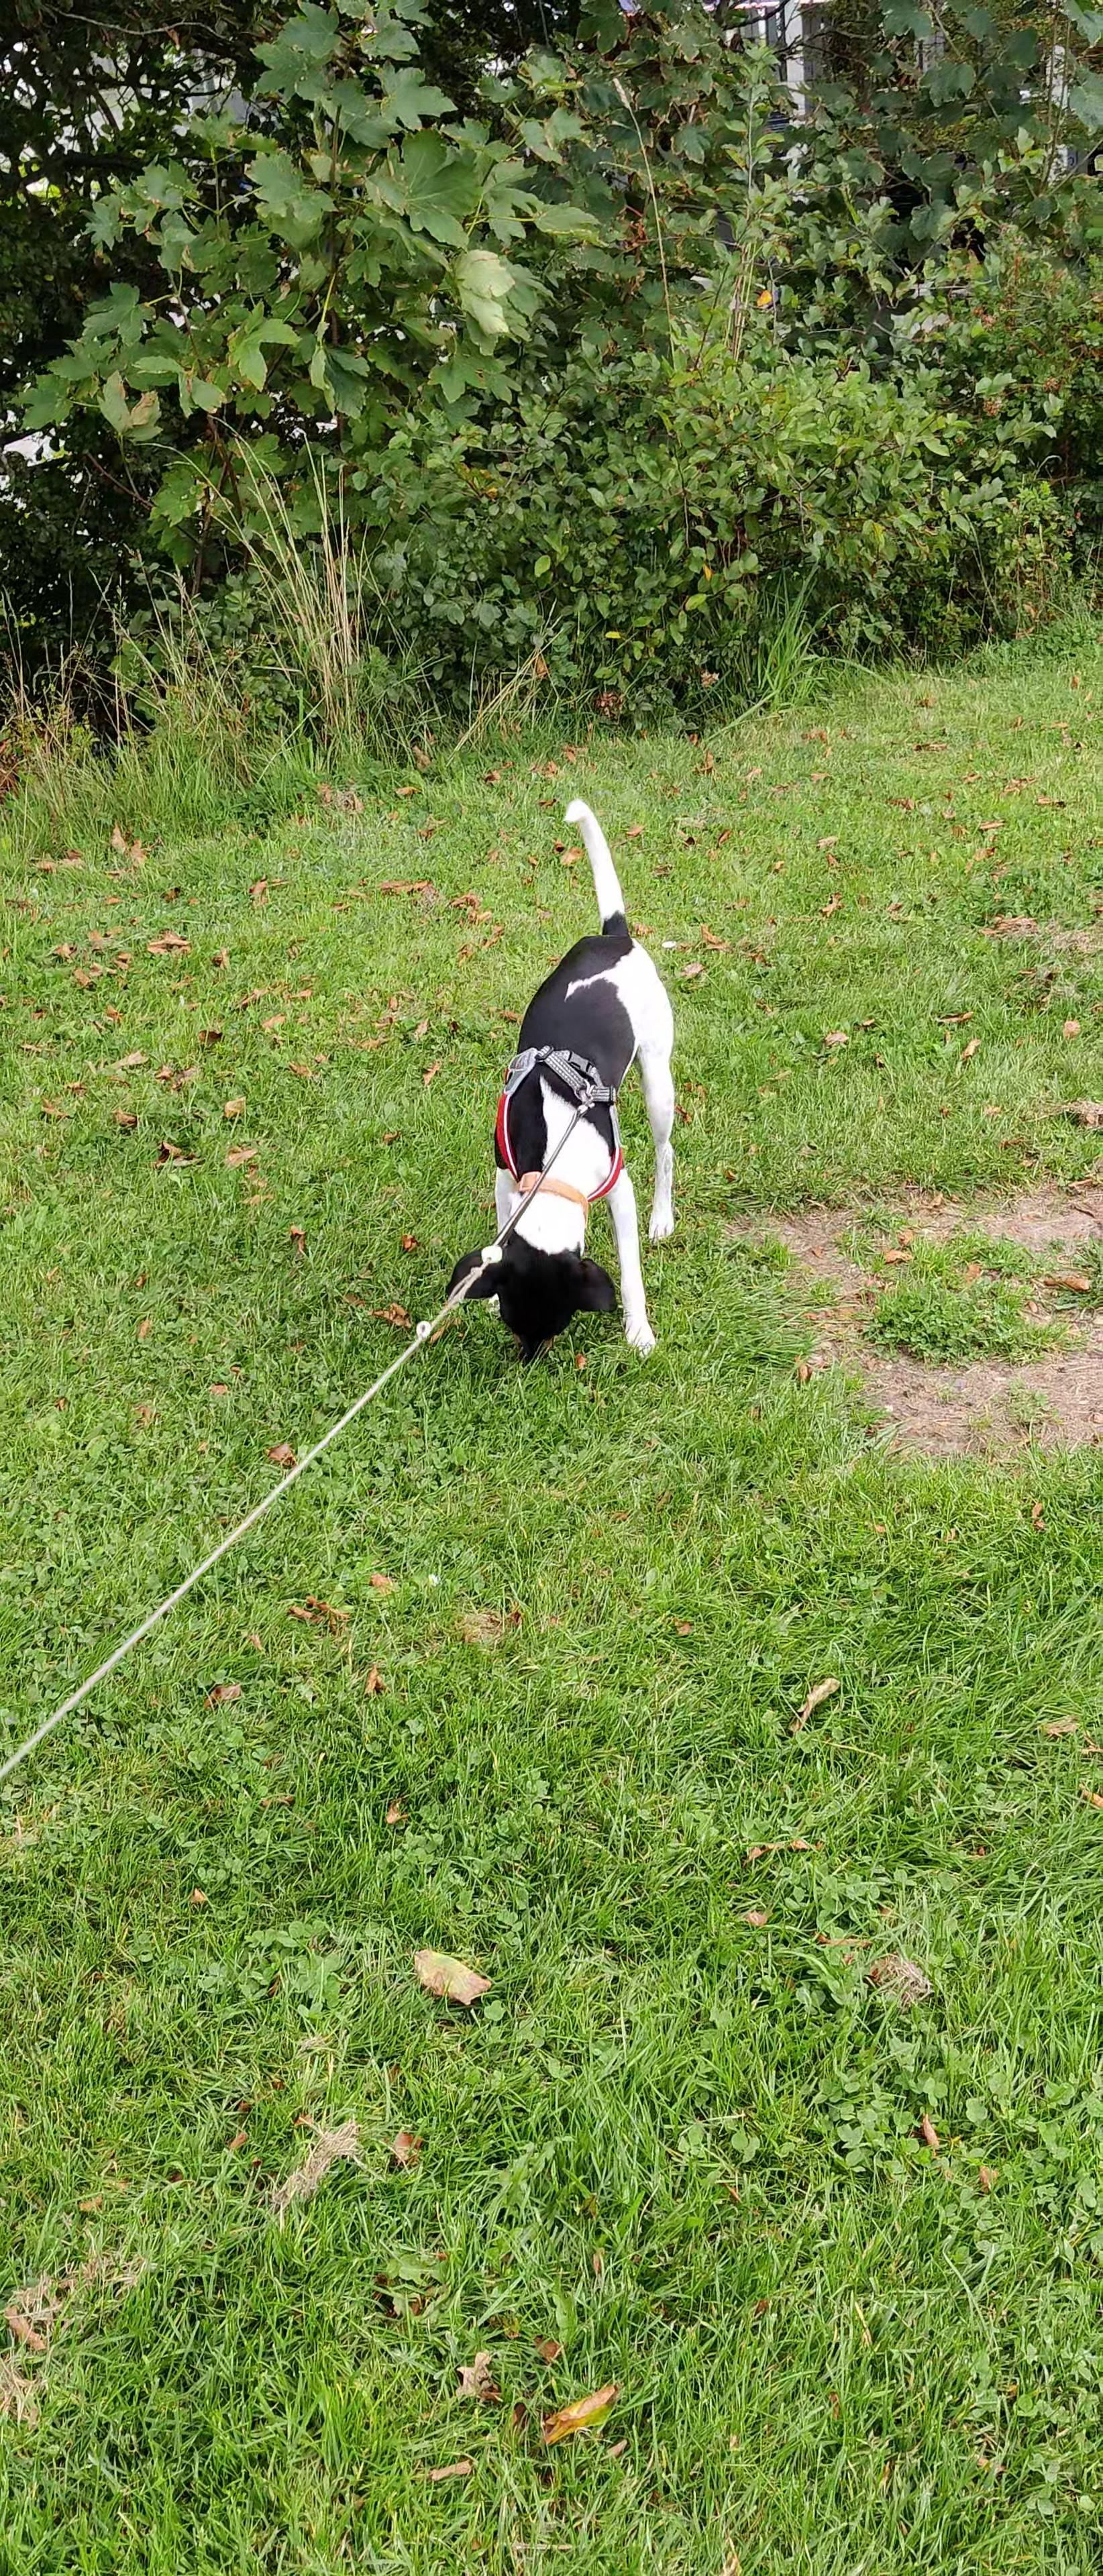Dog: (431, 785, 708, 1377)
